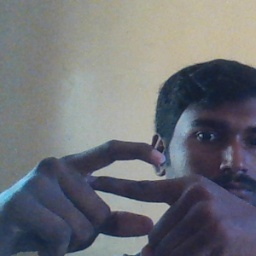E: (75, 136, 181, 243)
